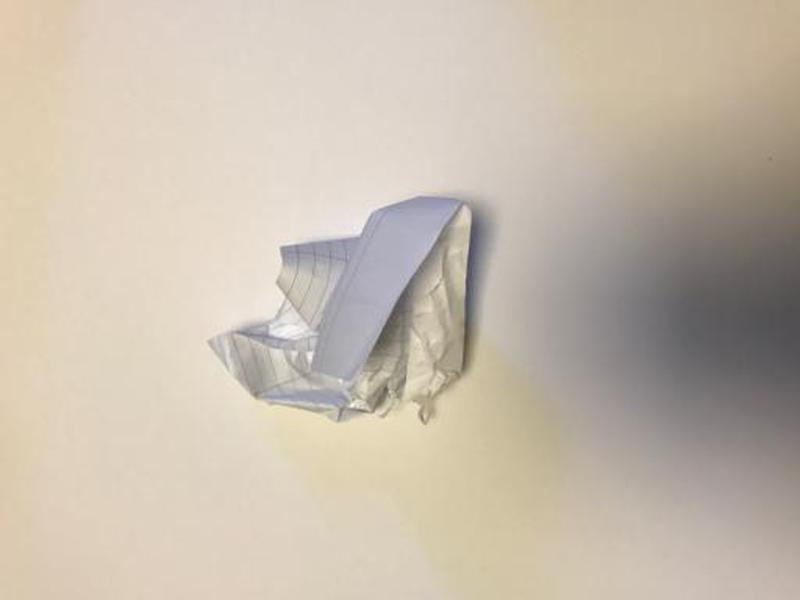paper: (205, 194, 499, 433)
